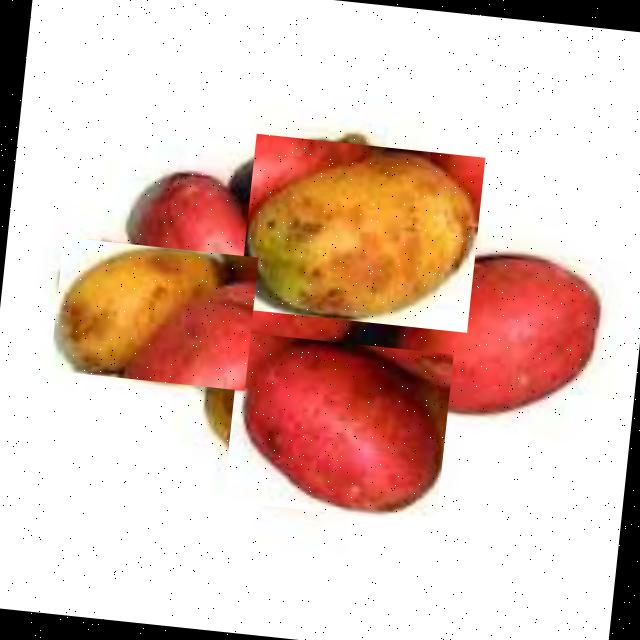Defected potato: (378, 238, 614, 431), (222, 332, 453, 523)
Diseased-fungal potato: (238, 134, 485, 332), (50, 237, 258, 391)
